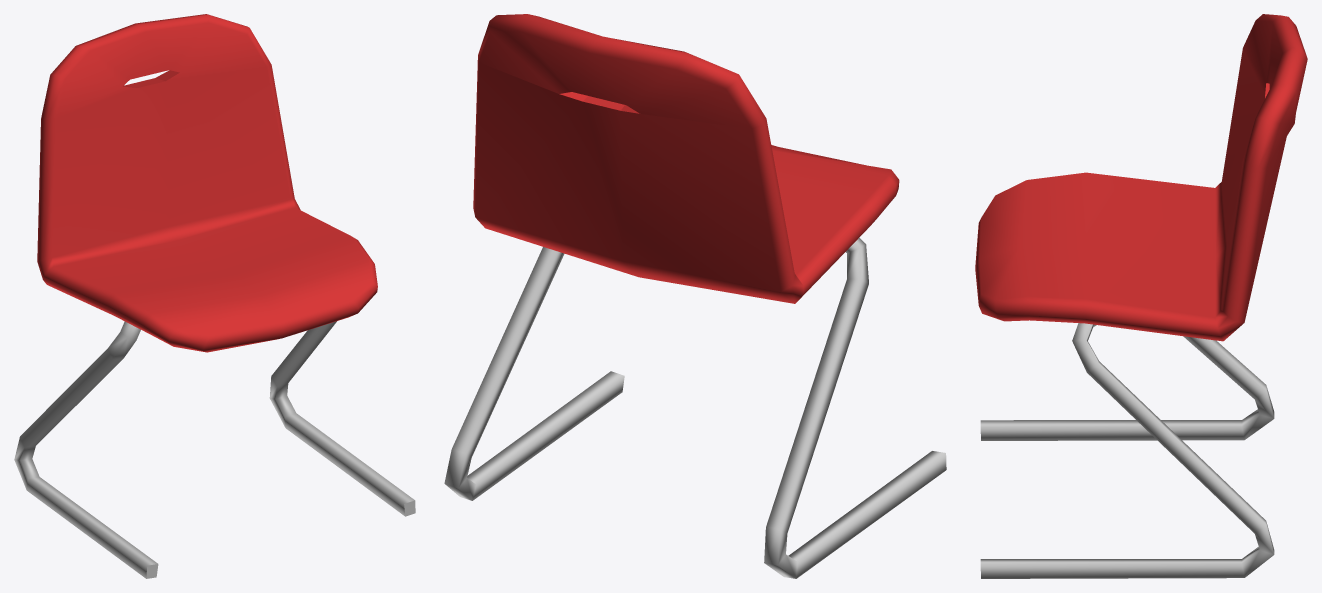
File: chair_054.fbx
3 renders of one model, left to right at view 1: azimuth 30°, elevation 25°; view 2: azimuth 150°, elevation 25°; view 3: azimuth 270°, elevation 25°, orthographic. The views are drawn at different scales.
Parts seen in each view (by area): view 1: chair_054; view 2: chair_054; view 3: chair_054.
Boxes of the visible parts, box(x1,y1,x2,y2) form: chair_054: box(14, 14, 415, 578); chair_054: box(444, 14, 946, 578); chair_054: box(975, 14, 1307, 578).
Size of the model in its own units: 75.81 by 73.75 by 113.
